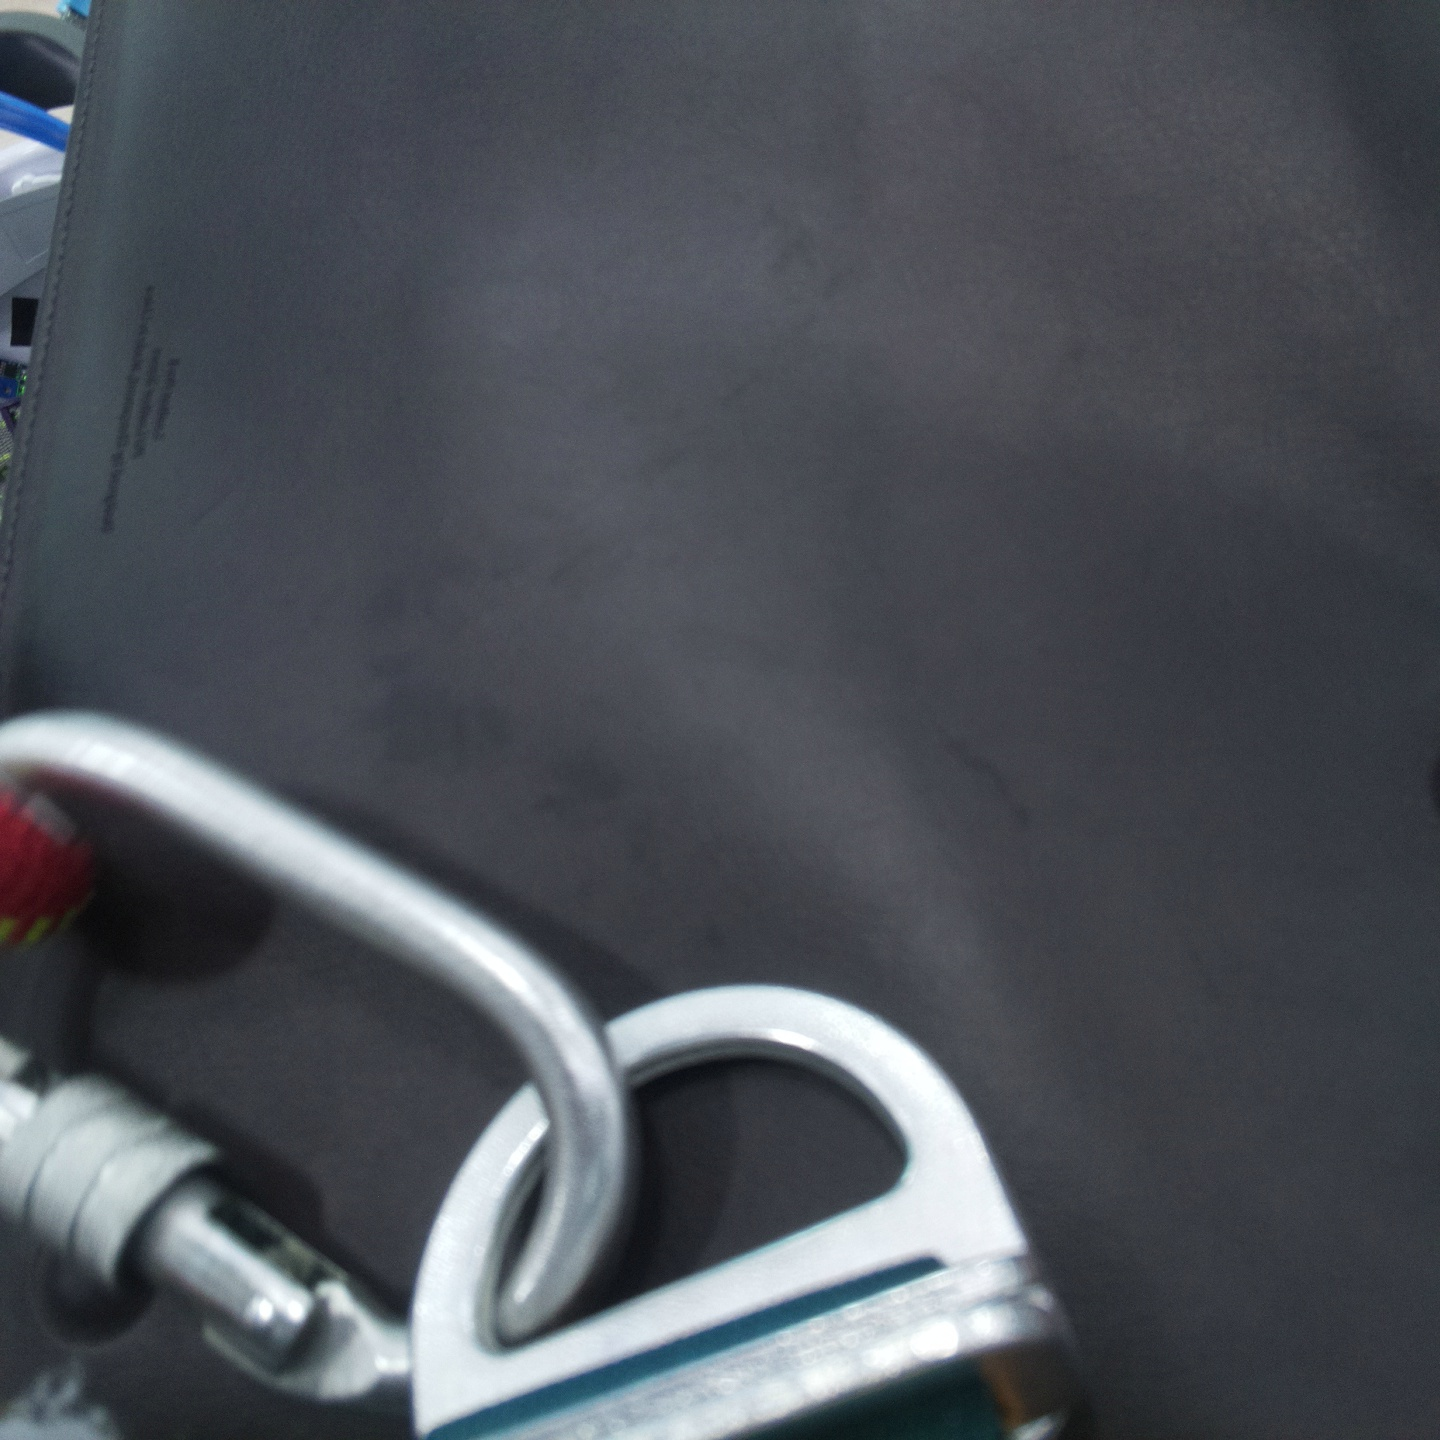SUCCESS: (196, 758, 1042, 1385)
